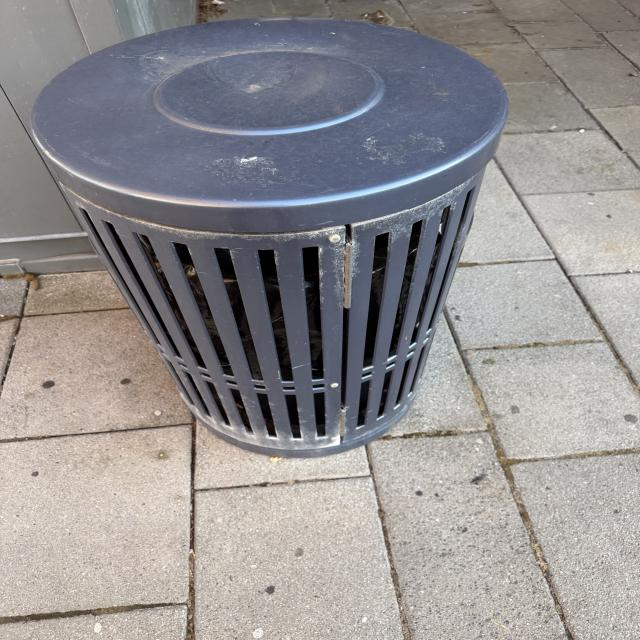Dustbin: (29, 19, 510, 460)
